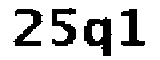1: (114, 6, 148, 51)
2: (12, 11, 45, 49)
5: (47, 3, 78, 52)
q: (81, 13, 114, 60)
